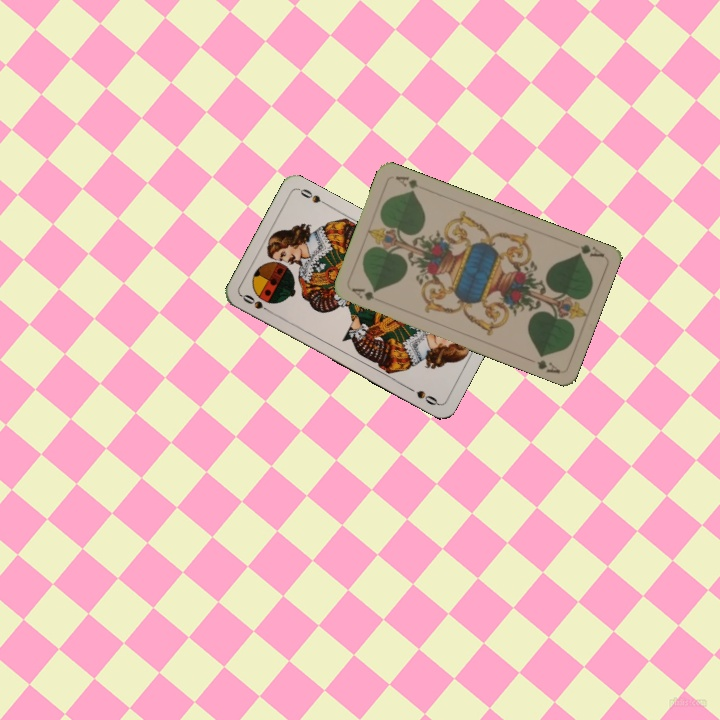GA: (573, 240, 606, 260), (348, 284, 378, 303)
SO: (238, 290, 275, 316)
